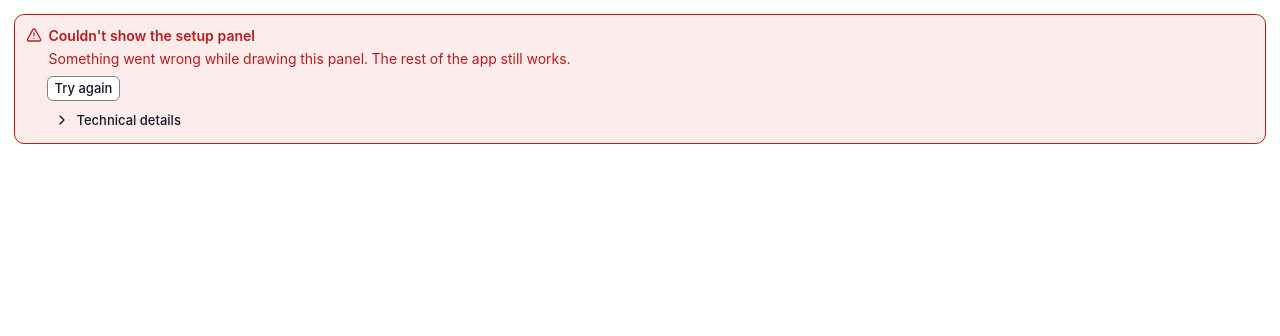
Scenario: PanelErrorBoundary › keeps the error message out of the headline and puts it under Technical details
The width and height of the screenshot is (1280, 336).
Expected: the text "secret internals" is not shown
Click the button "Technical details": (117, 120) [46,108,188,132]
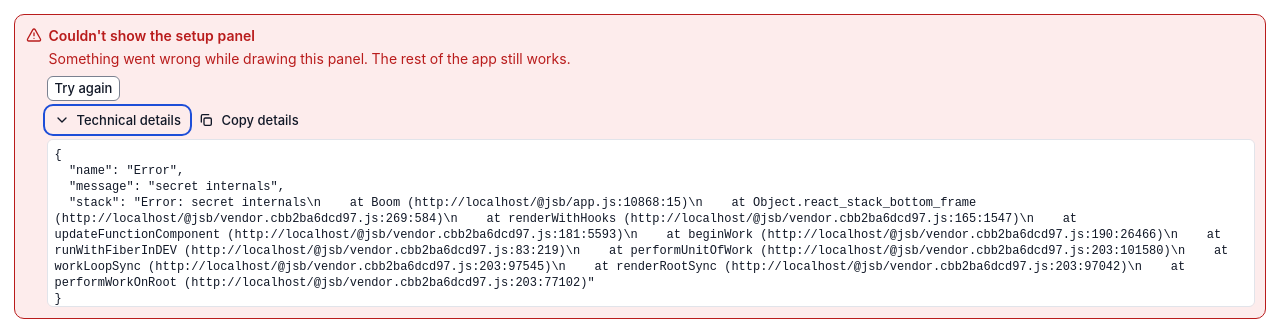
Expected: the text with test id "error-details" shows "secret internals", [54,148,1236,306]
